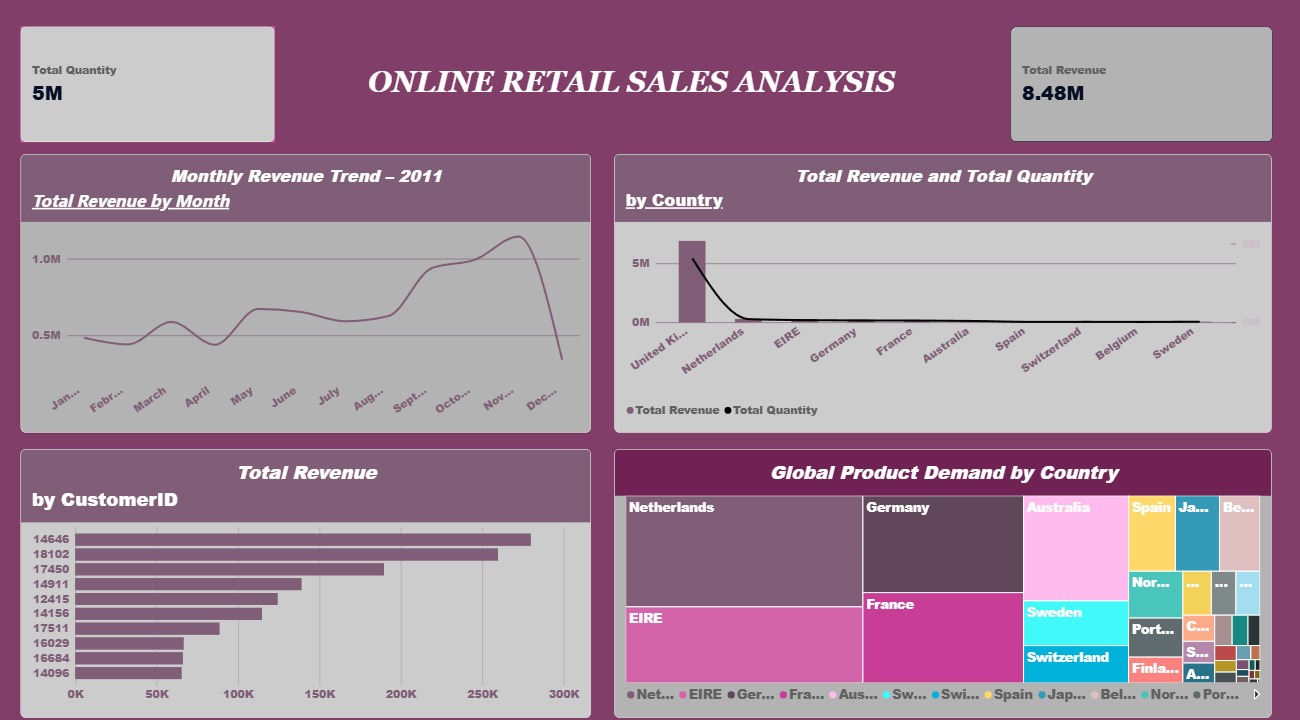

What the dashboard file says about the page in this screenshot:
{"tool":"powerbi","page":{"name":"Final dashboard","canvas":[1920,1080],"ordinal":0},"visuals":[{"type":"lineChart","title":"Monthly Revenue Trend – 2011","fields":{"Category":["Online Retail.InvoiceDate.Variation.Date Hierarchy.Month"],"Y":["Online Retail.Total Revenue"]},"box":[34,236,840,410],"z":0},{"type":"lineClusteredColumnComboChart","fields":{"Category":["Online Retail.Country"],"Y":["Online Retail.Total Revenue"],"Y2":["Online Retail.Total Quantity"]},"box":[908,236,968,410],"z":1000},{"type":"barChart","fields":{"Category":["Online Retail.CustomerID"],"Y":["Online Retail.Total Revenue"]},"box":[34,670,840,396],"z":2000},{"type":"treemap","title":"Global Product Demand by Country","fields":{"Group":["Online Retail.Country"],"Values":["Online Retail.Total Quantity"]},"box":[908,670,968,396],"z":3000},{"type":"textbox","box":[188,104,1490,96],"z":4000},{"type":"cardVisual","fields":{"Data":["Online Retail.Total Quantity"]},"box":[34,48,374,170],"z":4001},{"type":"cardVisual","fields":{"Data":["Online Retail.Total Revenue"]},"box":[1490,48,386,170],"z":4002}]}

Visuals, with their boxes in screenshot pixels (x1, y1, x2, y2), scaled from the page's 1920x1080 canvas onto the 1300x720 screenshot:
"Monthly Revenue Trend – 2011" lineChart: select_region(23, 157, 592, 431)
lineClusteredColumnComboChart - Online Retail.Country x Online Retail.Total Revenue: select_region(615, 157, 1270, 431)
barChart - Online Retail.CustomerID x Online Retail.Total Revenue: select_region(23, 447, 592, 711)
"Global Product Demand by Country" treemap: select_region(615, 447, 1270, 711)
textbox: select_region(127, 69, 1136, 133)
cardVisual - Online Retail.Total Quantity: select_region(23, 32, 276, 145)
cardVisual - Online Retail.Total Revenue: select_region(1009, 32, 1270, 145)
